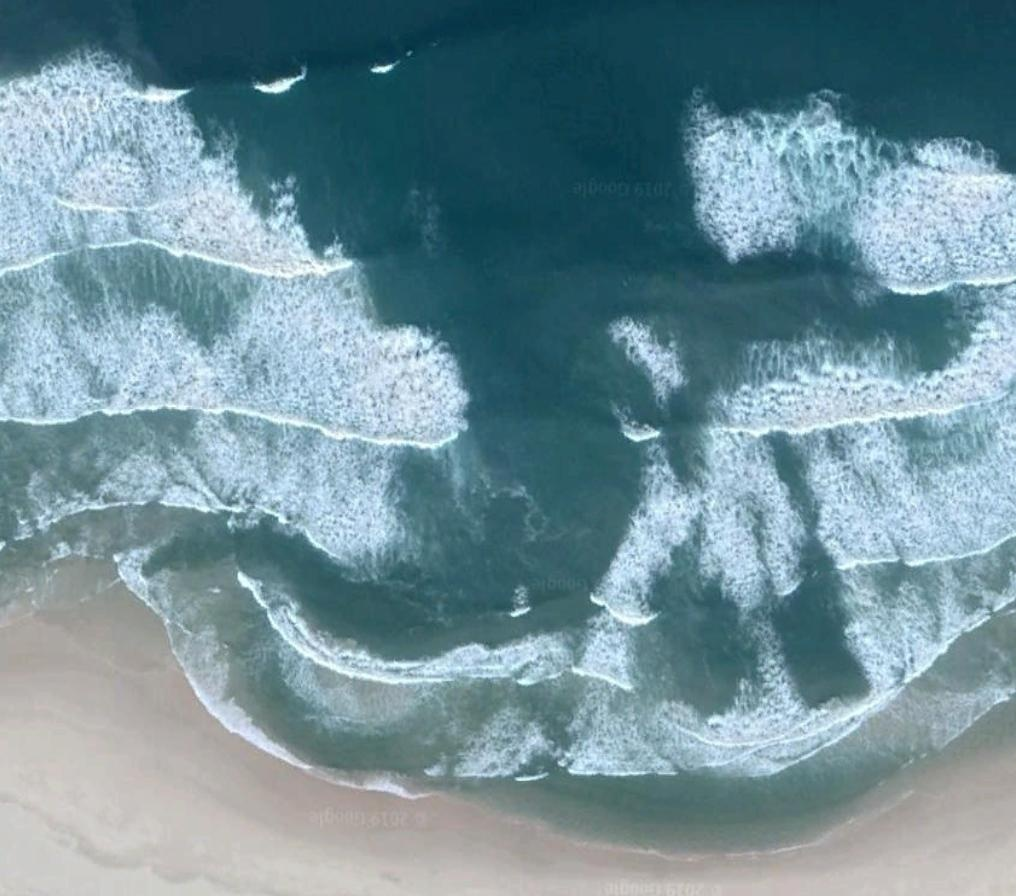rip_current: (230, 75, 725, 679)
